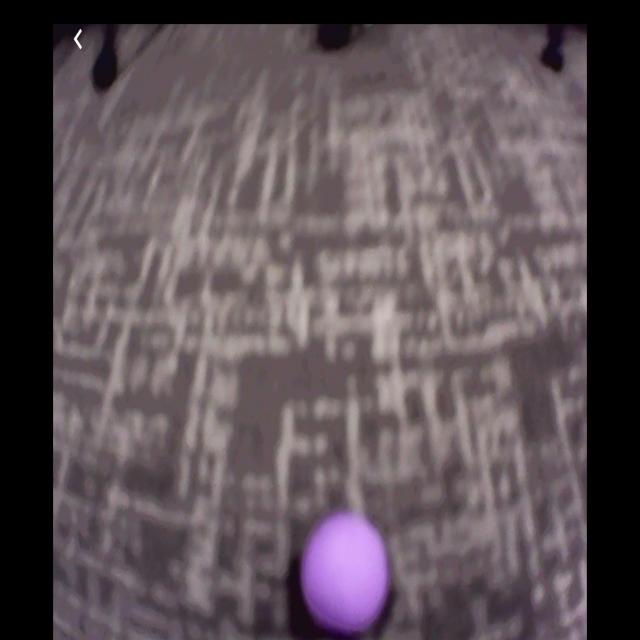ball: (302, 513, 390, 631)
